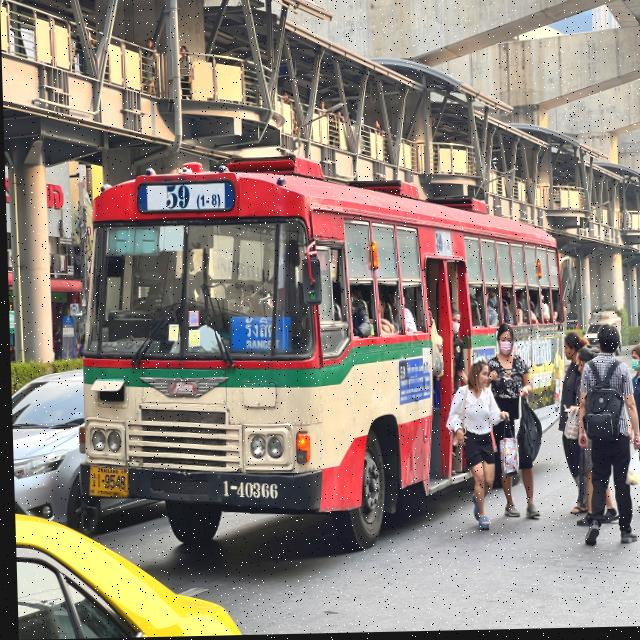BMTA-bus: (66, 148, 572, 573)
Bus Line Number: (144, 180, 223, 214)
Bus Side Number: (216, 479, 280, 508)
Destination Sign: (229, 317, 292, 355)
